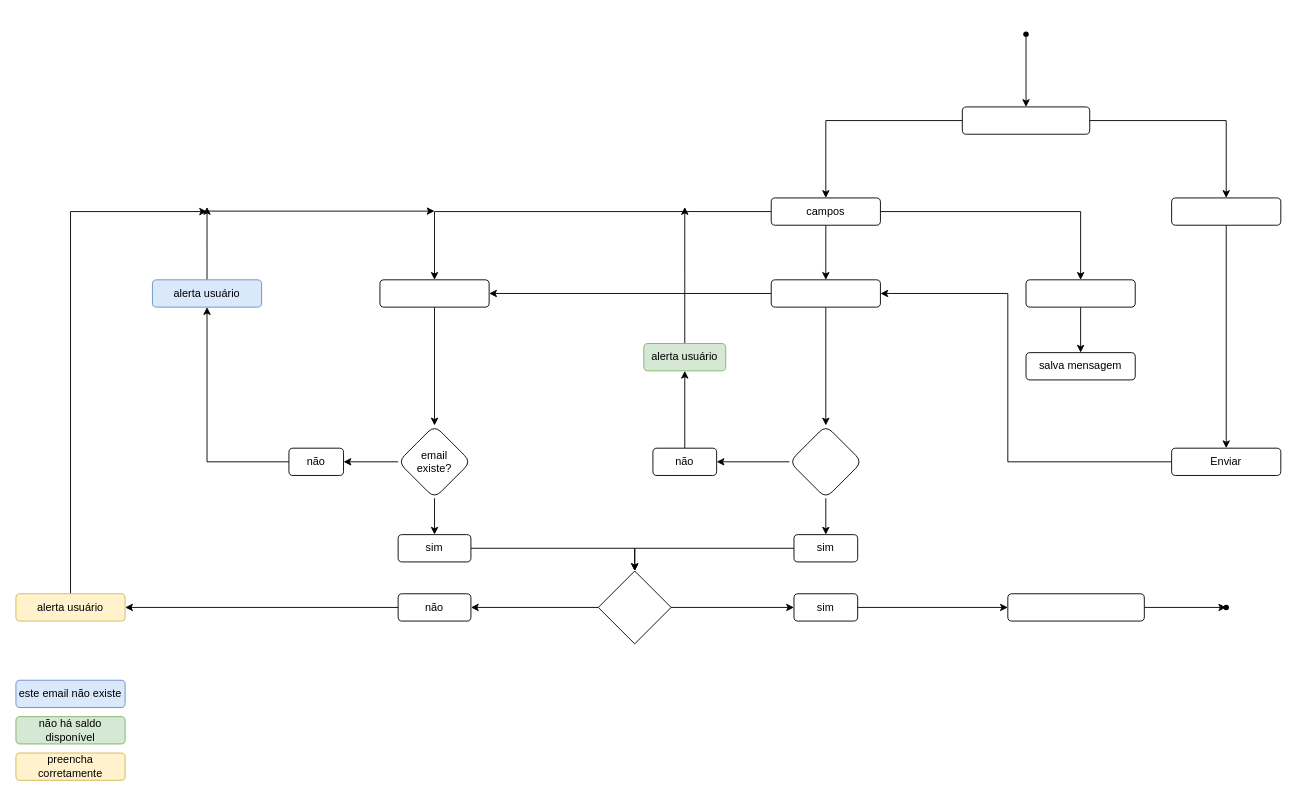
Image size: 1297x796. Some labels were removed from this diagram. The shapes that lost their labels are listed below. From the top down, each one's centre as x and y in pixels, then its label:
point (1025, 120): página valor a transferir
point (1226, 211): botão
point (434, 293): email
point (825, 293): valor
point (1080, 293): mensagem
point (825, 461): há saldo disponivel
point (634, 607): ambos são sim
point (1075, 607): vai para página você-transferiu
